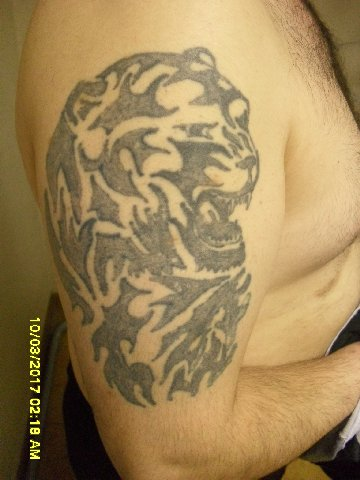tatu5_tigr: (22, 34, 302, 419)
